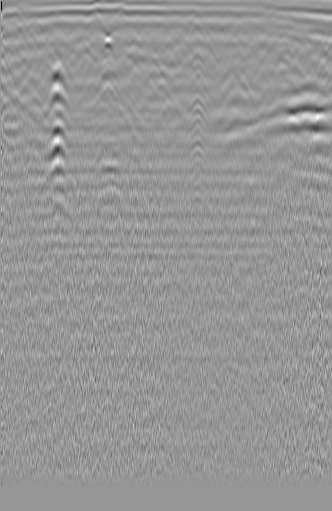가스: (94, 175, 128, 206)
상수: (7, 24, 34, 49)
오수: (291, 34, 319, 61)
우수: (140, 18, 176, 47)
